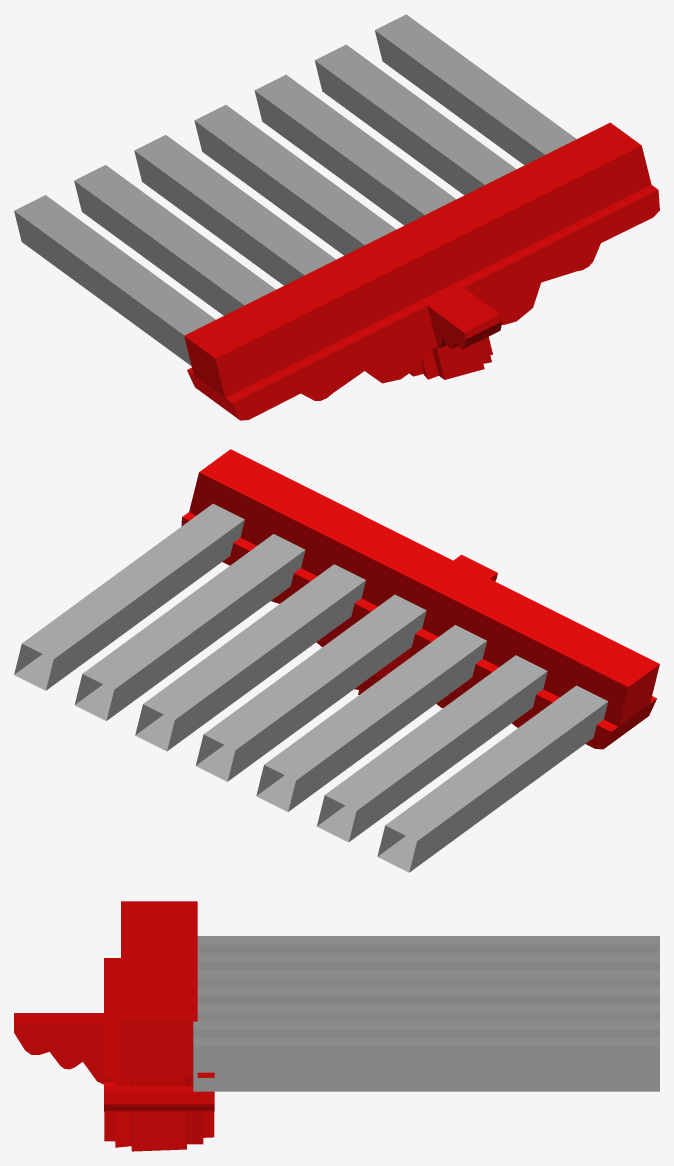
The model's file is columna rota 3.fbx.
The picture shows the model from 3 angles, top to bottom: view 1: azimuth 30°, elevation 25°; view 2: azimuth 150°, elevation 25°; view 3: azimuth 270°, elevation 25°; orthographic projection. The views are drawn at different scales.
Parts seen in each view (by area): view 1: columna_3; view 2: columna_3; view 3: columna_3.
Part boxes in pixels (<box>): columna_3: <box>14,14,659,420</box>; columna_3: <box>14,449,659,872</box>; columna_3: <box>14,901,659,1151</box>.
Bounding box in the file's own units: 3.42 × 1.34 × 3.6.
